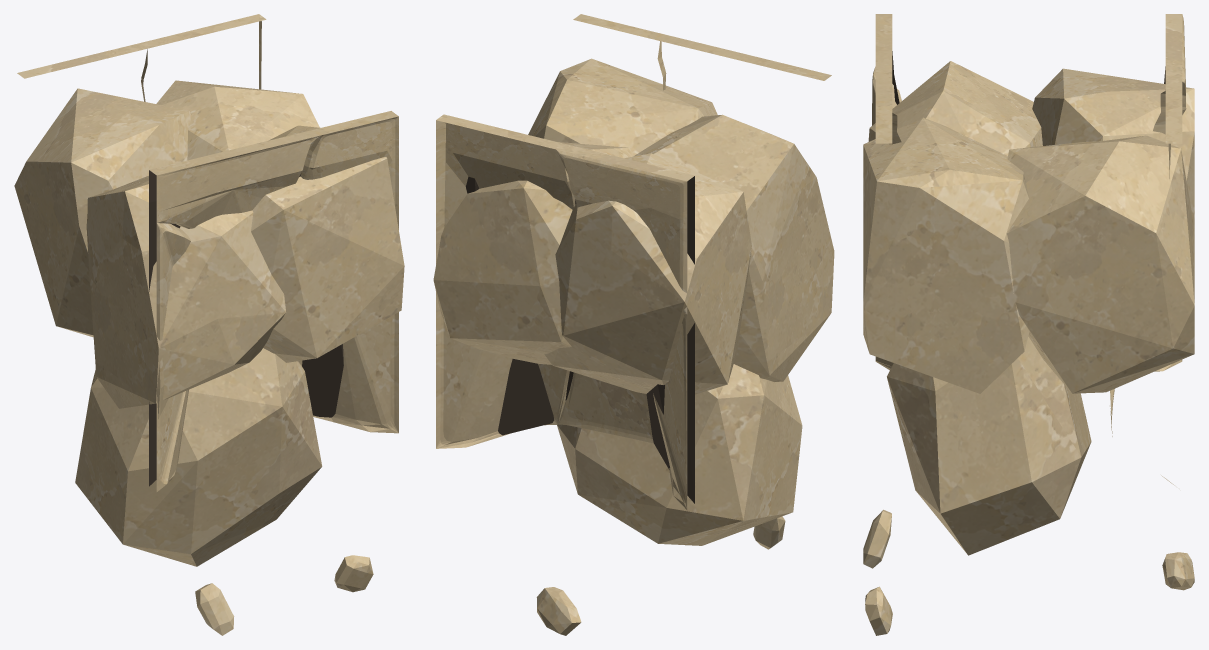
File: ground_bottom_strip_06.glb
The picture shows the model from 3 angles, left to right: view 1: azimuth 30°, elevation 25°; view 2: azimuth 150°, elevation 25°; view 3: azimuth 270°, elevation 25°; orthographic projection. The views are drawn at different scales.
Parts seen in each view (by area): view 1: GroundBottomStrip06_Body; view 2: GroundBottomStrip06_Body; view 3: GroundBottomStrip06_Body.
Boxes of the visible parts, x1=… form: GroundBottomStrip06_Body: x1=14, y1=14, x2=404, y2=635; GroundBottomStrip06_Body: x1=433, y1=14, x2=834, y2=635; GroundBottomStrip06_Body: x1=863, y1=14, x2=1194, y2=635.
Bounding box in the file's own units: 1 × 1.87 × 1.08.
Materials: 8 (7 with a texture image).
